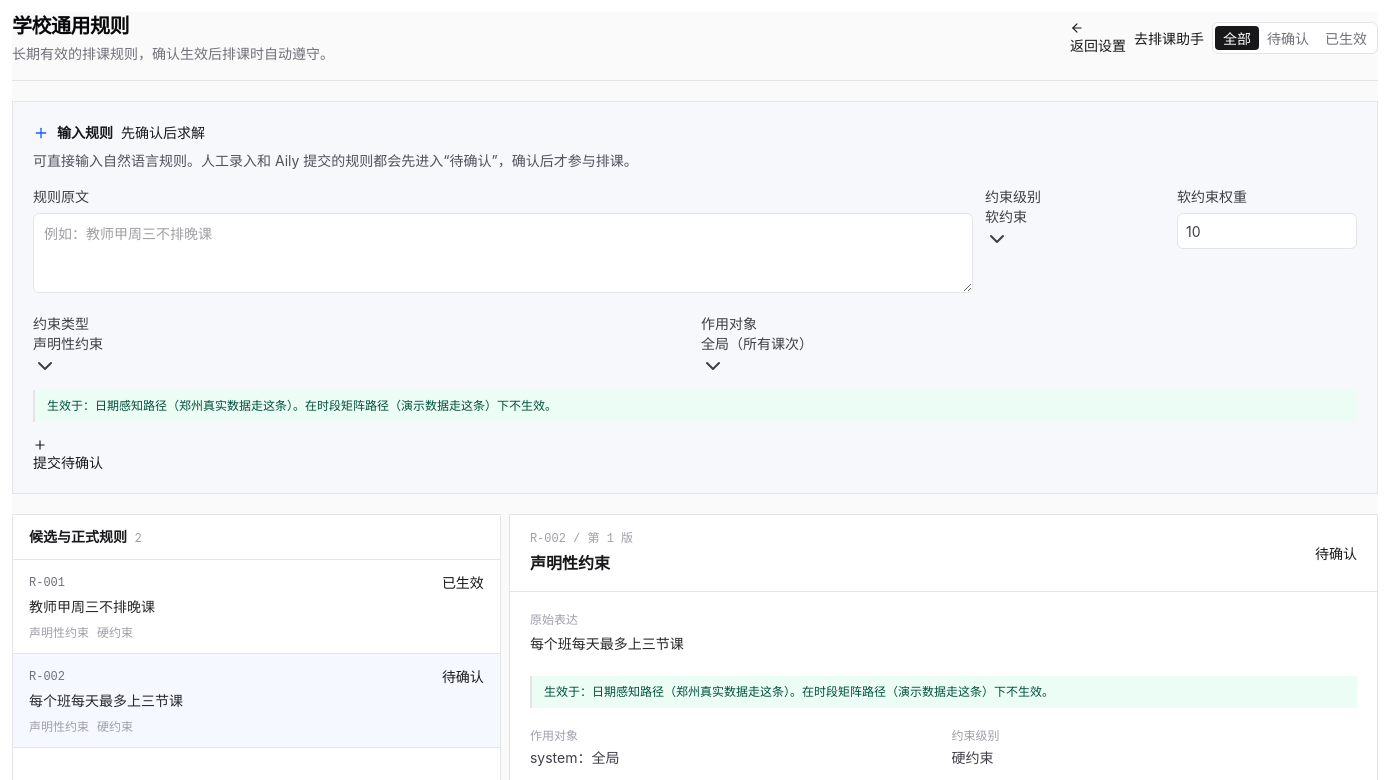
Test: 学校通用规则页 › ?rule= 之后手动点另一条规则，高亮随之移动，不会被链接参数拽回去
Expected: the button "R-002 待确认 每个班每天最多上三节课 声明性约束 硬约束" is shown, [13,654,500,748]
Click the button with id "rule-item-rule-uuid-1" at (47, 582), box [13,560,500,654]
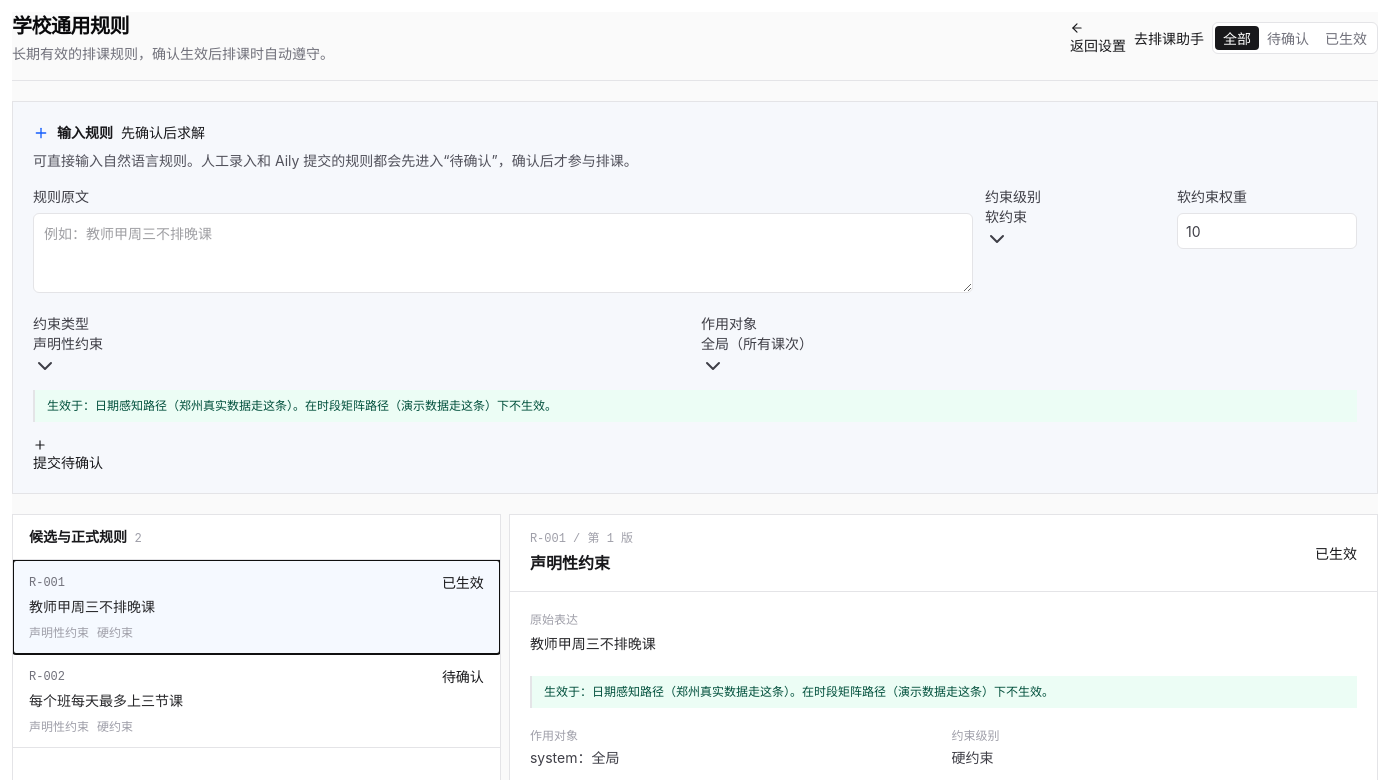
Expected: the text "R-001 / 第 1 版" is shown, [530,531,633,547]
